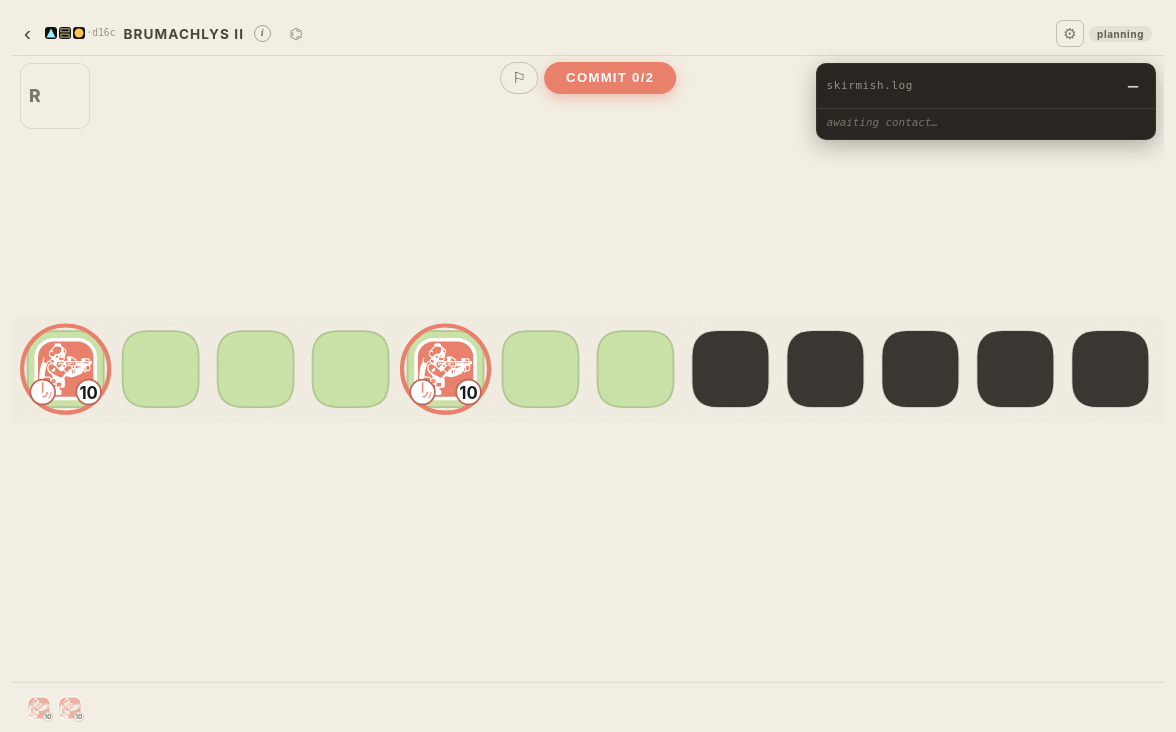
Test case: TopCta in the battle screen (App integration) › the directive control opens its popover with the three directives + clear-all
The image size is (1176, 732).
What coordinates should you click on to do the following:
click the button with test id "directive-toggle"
I would click on:
 (519, 78)
Its box is [500,62,538,94].
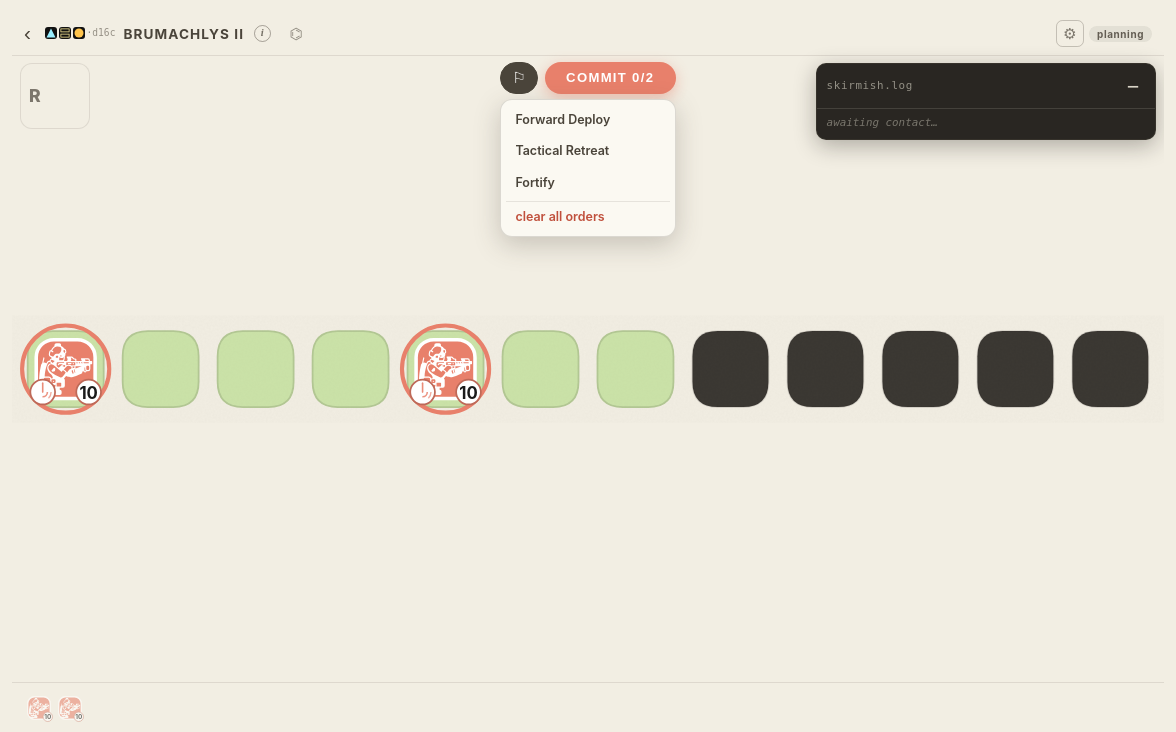
Expected: the menu with test id "directive-menu" is shown, [500,99,676,237]
Expected: the menu with test id "directive-menu" shows "Forward Deploy", [506,105,670,134]
Expected: the menu with test id "directive-menu" shows "Tactical Retreat", [506,136,670,166]
